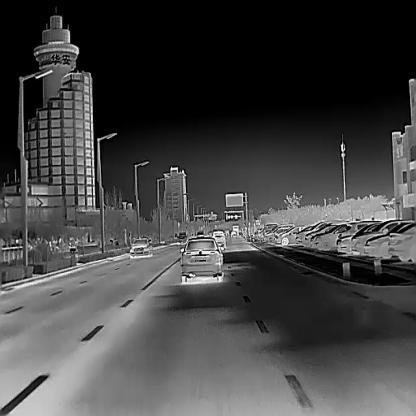car: (364, 220, 416, 259), (178, 237, 222, 281), (336, 222, 383, 252), (310, 223, 352, 250), (275, 225, 306, 246), (296, 221, 320, 245), (129, 237, 152, 258), (210, 227, 225, 248), (175, 231, 186, 242), (231, 223, 239, 234), (196, 229, 203, 237), (230, 230, 237, 236)
